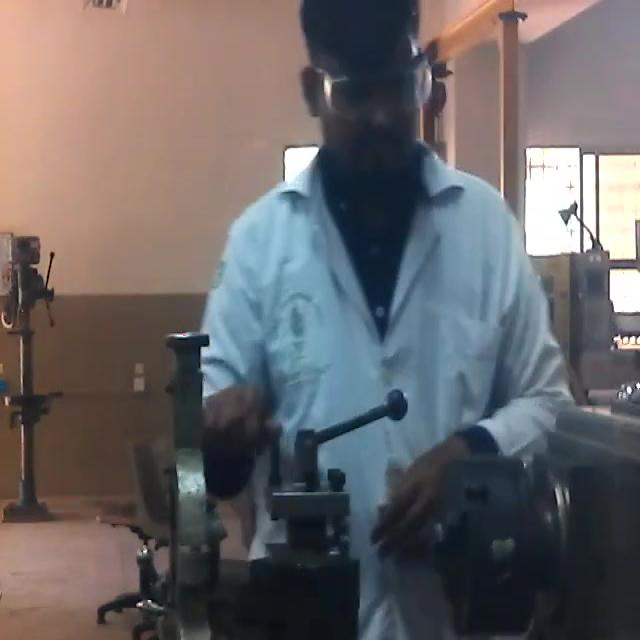googles: (322, 60, 433, 123)
labcoat: (196, 140, 572, 640)
